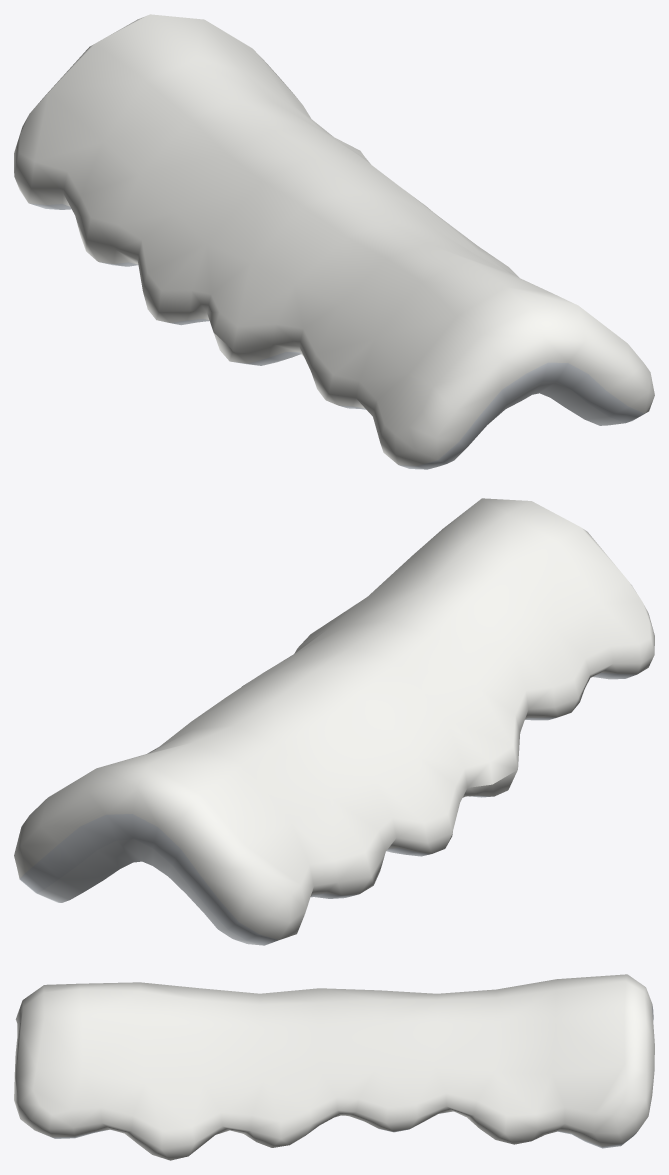
Rendered from telhado_natal_neve_cumeeira_pacote.glb.
The picture shows the model from 3 angles, top to bottom: view 1: azimuth 30°, elevation 25°; view 2: azimuth 150°, elevation 25°; view 3: azimuth 270°, elevation 25°; orthographic projection. The views are drawn at different scales.
Visible parts, largest first — view 1: colisao_malha; view 2: colisao_malha; view 3: colisao_malha.
Boxes of the visible parts, x1=… form: colisao_malha: x1=14, y1=14, x2=654, y2=469; colisao_malha: x1=14, y1=498, x2=654, y2=945; colisao_malha: x1=14, y1=974, x2=654, y2=1160.
Size of the model in its own units: 2.51 by 1.38 by 6.19.
Materials: 1 (1 with a texture image).
